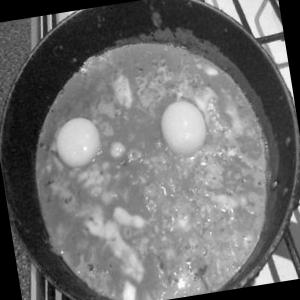omelet: (8, 18, 286, 300)
